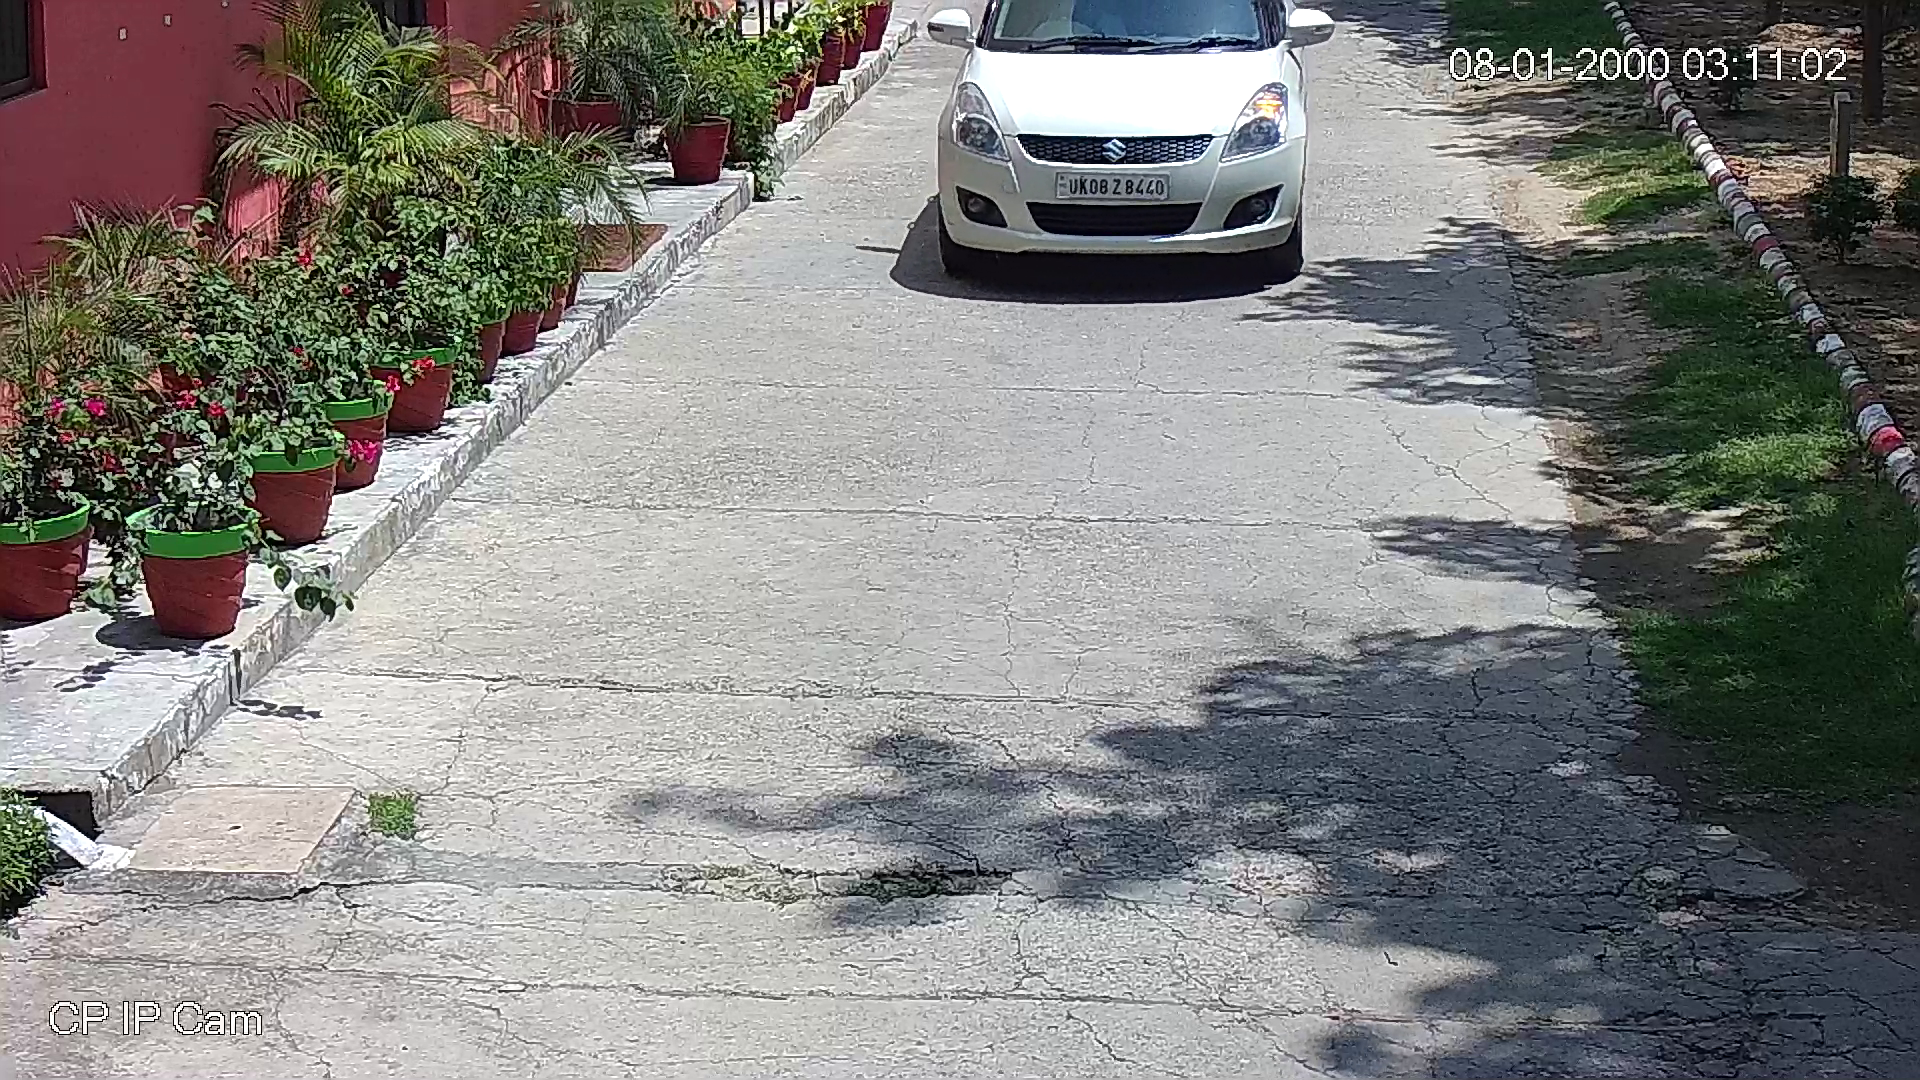plate: (1061, 177, 1169, 202)
